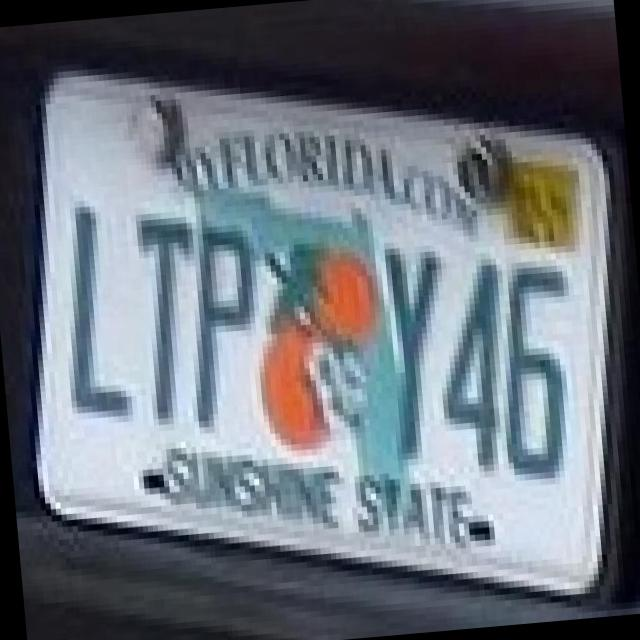4: (414, 239, 519, 482)
6: (480, 239, 590, 482)
K: (232, 222, 351, 453)
L: (37, 178, 138, 427)
P: (164, 198, 274, 435)
T: (113, 185, 208, 421)
Y: (347, 220, 457, 462)
